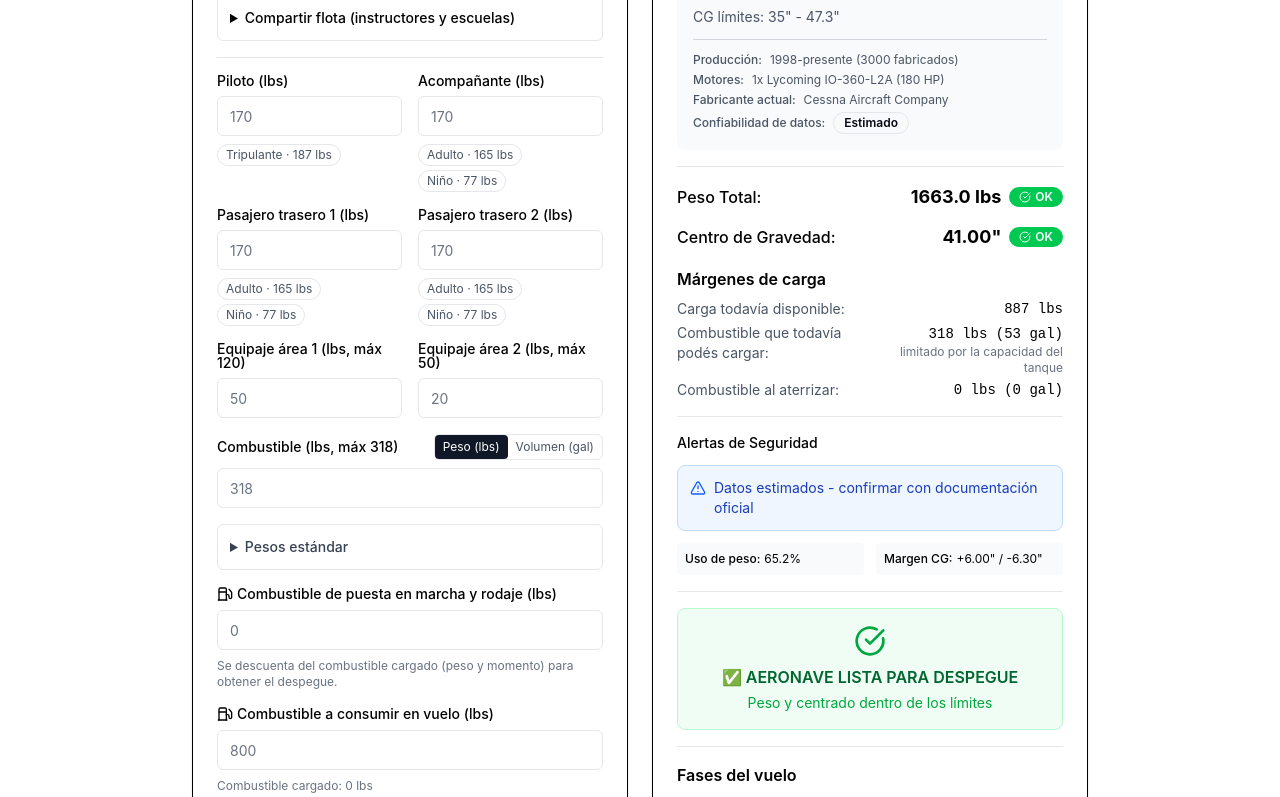
Test: App (integración) › rejects takeoff when a station is loaded above its maximum
(page scrolled)
// área de equipaje 2 del 172S: máx 50 lbs
Type "60" into the number field labelled "Equipaje área 2 (lbs, máx 50)" at {"x": 510, "y": 398}, box [418, 378, 603, 418]
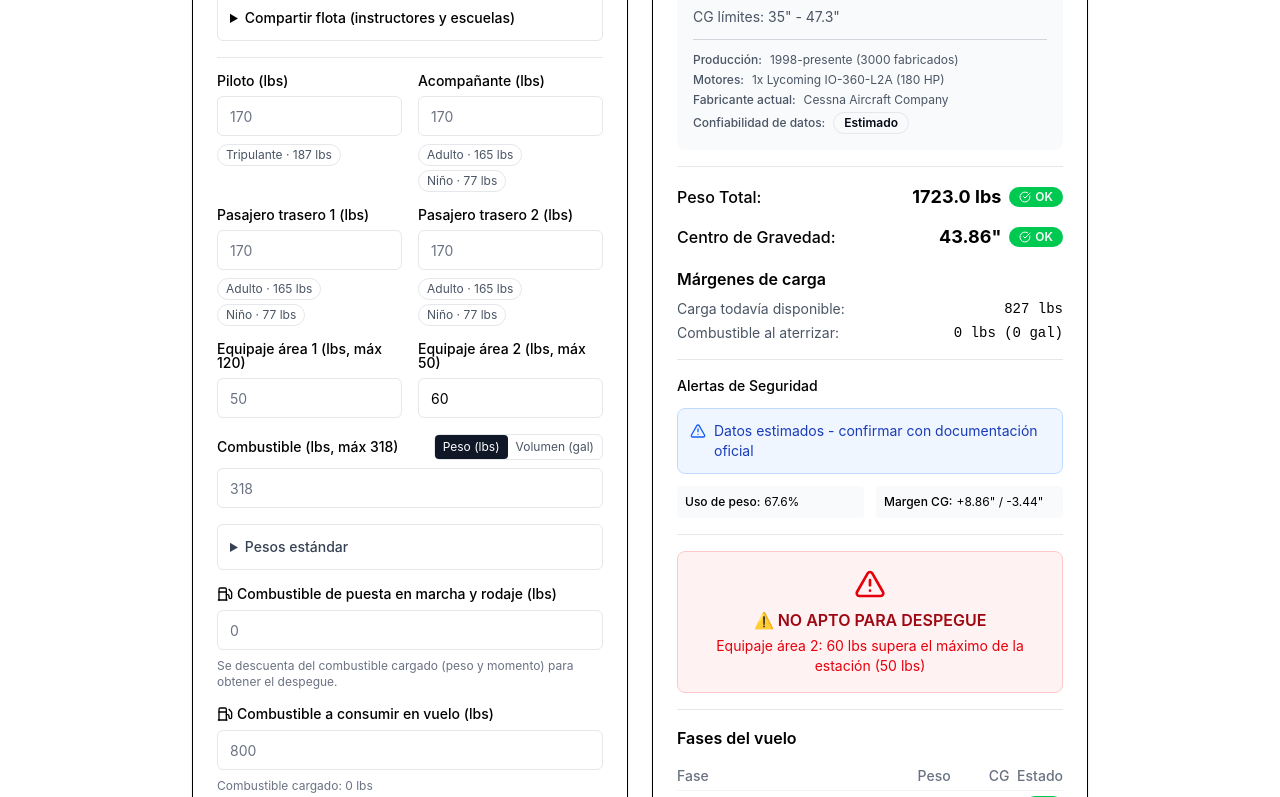
Expected: the text "⚠️ NO APTO PARA DESPEGUE" is shown, [754, 610, 986, 630]
Expected: the list item "60 lbs supera el máximo de la estación (50 lbs)" is shown, [716, 637, 1024, 674]
